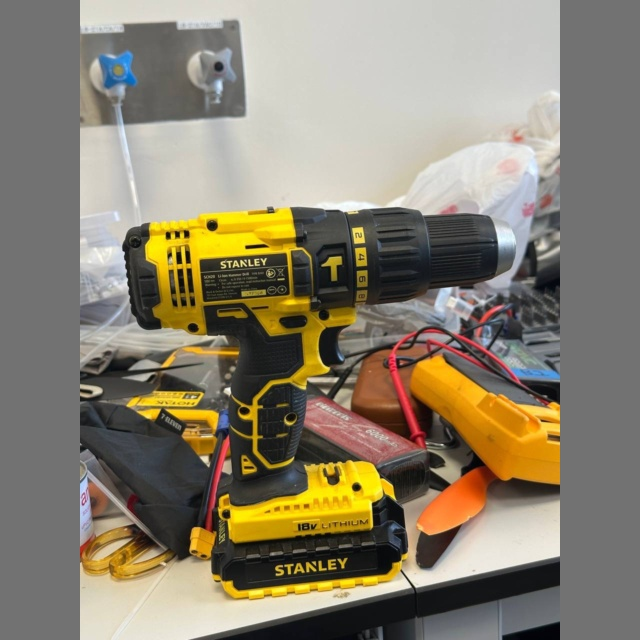drill: (124, 207, 516, 598)
